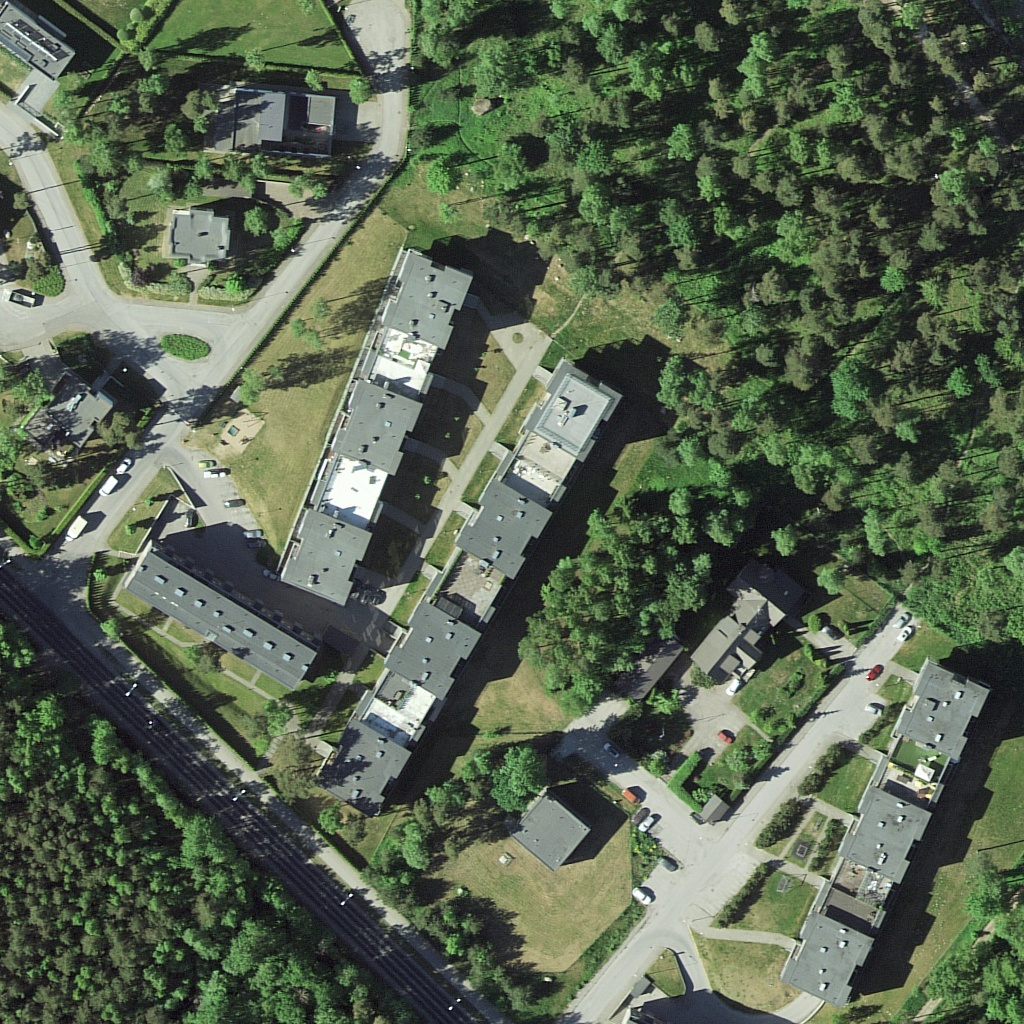building: (125, 533, 318, 698), (682, 557, 802, 699), (305, 717, 415, 821), (321, 373, 425, 478), (377, 601, 484, 702), (521, 353, 620, 461), (372, 248, 477, 349), (891, 658, 991, 762), (772, 911, 875, 1009), (457, 475, 554, 579), (837, 775, 935, 873), (223, 85, 335, 169), (282, 497, 367, 603), (508, 790, 585, 882), (1, 6, 80, 82), (156, 199, 228, 271)
